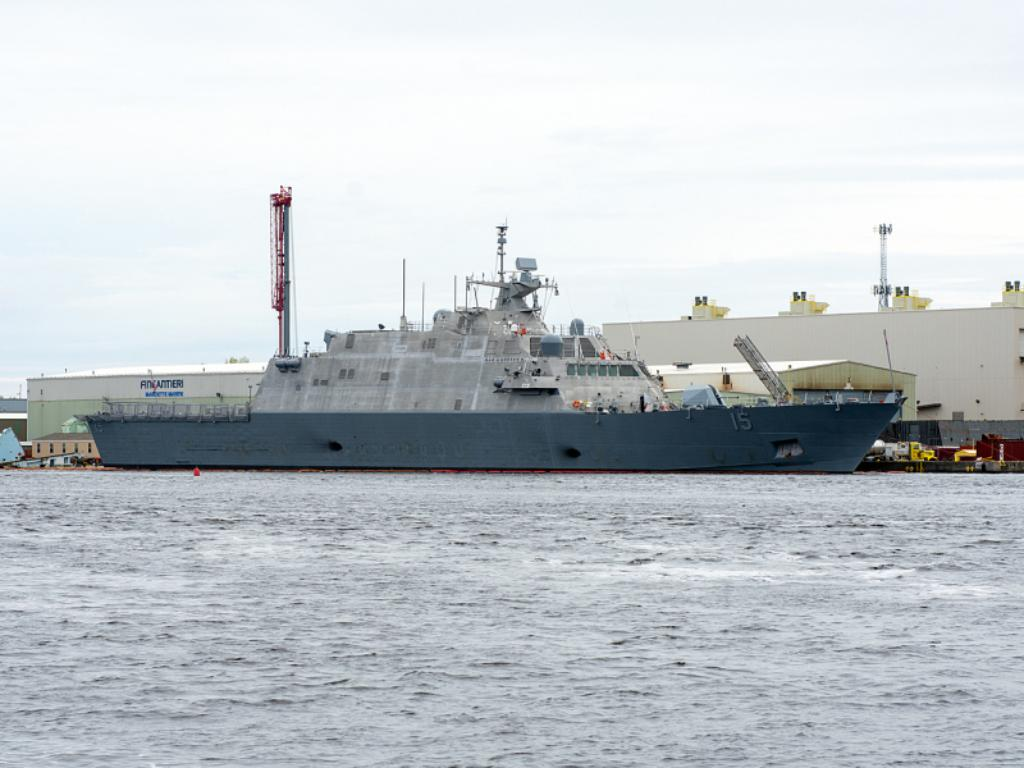Warship: (73, 222, 903, 474)
